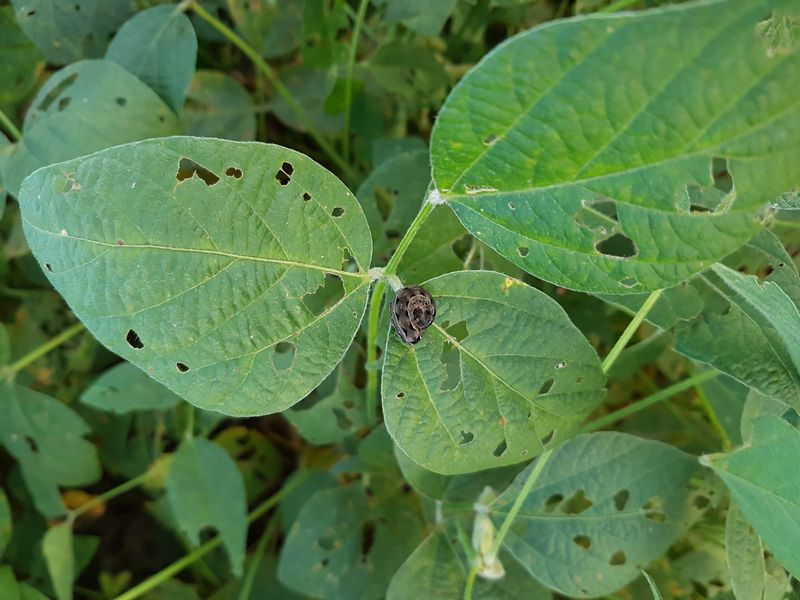Spodoptera_albula: (367, 273, 450, 354)
